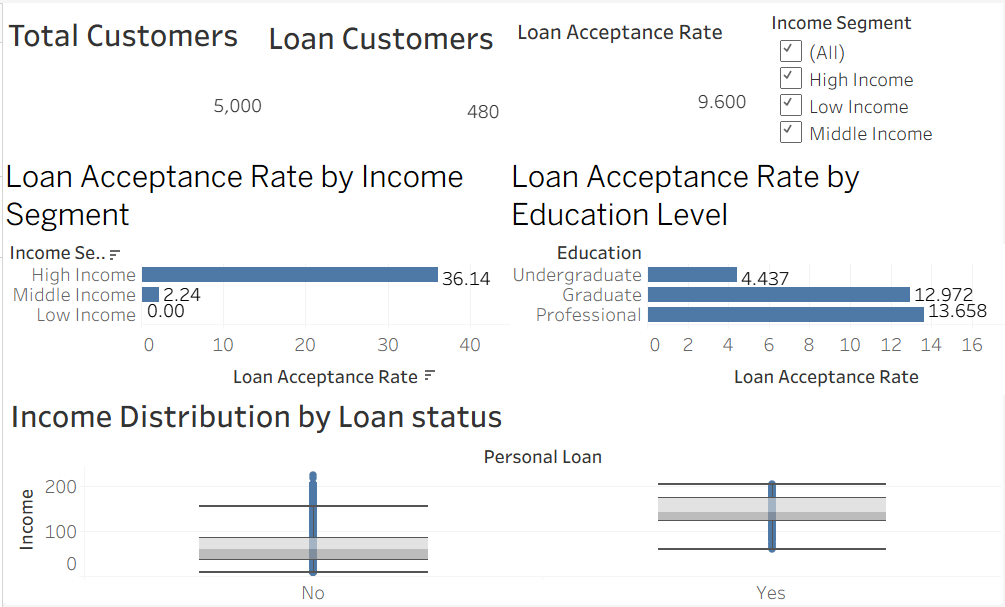

The page's visual inventory and layout, read from the dashboard file:
{"tool":"tableau","page":{"name":"Credit Risk & Personal Loan Exposure – Executive Dashboard","canvas":[1000,600],"ordinal":0},"visuals":[{"type":"worksheet","title":"Sheet 4","mark":"Text","box":[1,6,262,136]},{"type":"filter","title":"Sheet 4","param":"[federated.1skoty71kwa6qm1ggbrz10yncnrp].[none:Income_Segment:nk]","box":[768,6,217,137]},{"type":"worksheet","title":"Sheet 5","mark":"Automatic","box":[261,9,239,141]},{"type":"worksheet","title":"Sheet 6","mark":"Automatic","box":[510,10,237,132]},{"type":"worksheet","title":"Sheet 2","mark":"Automatic","rows":["Education"],"cols":["Calculation_1847756021620736"],"box":[504,150,499,263]},{"type":"worksheet","title":"Sheet 3","mark":"Circle","rows":["Income"],"cols":["Personal_Loan"],"box":[3,387,995,215]}]}

Visuals, with their boxes in screenshot pixels (x1, y1, x2, y2), scaled from the page's 1000x600 canvas onto the 1005x607 screenshot:
"Sheet 4" worksheet (Text marks): x1=1, y1=6, x2=264, y2=144
"Sheet 4" filter: x1=772, y1=6, x2=990, y2=145
"Sheet 5" worksheet: x1=262, y1=9, x2=502, y2=152
"Sheet 6" worksheet: x1=513, y1=10, x2=751, y2=144
"Sheet 2" worksheet: x1=507, y1=152, x2=1004, y2=418
"Sheet 3" worksheet (Circle marks): x1=3, y1=392, x2=1003, y2=606
